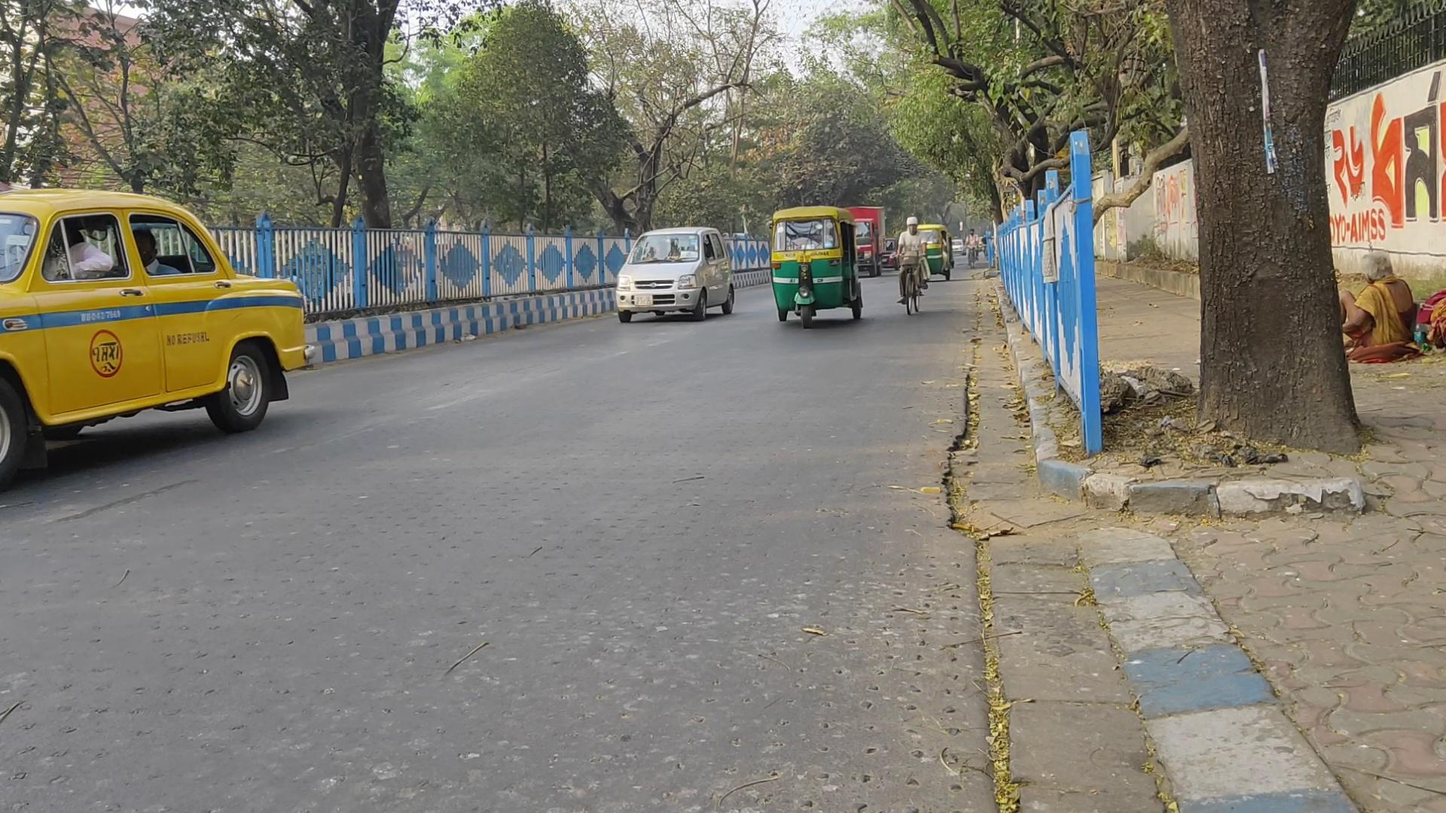Auto: (769, 206, 863, 327), (917, 223, 955, 283)
bike: (894, 216, 931, 315), (964, 228, 980, 270)
car: (2, 184, 313, 482), (616, 226, 736, 321)
van: (845, 204, 886, 278)
